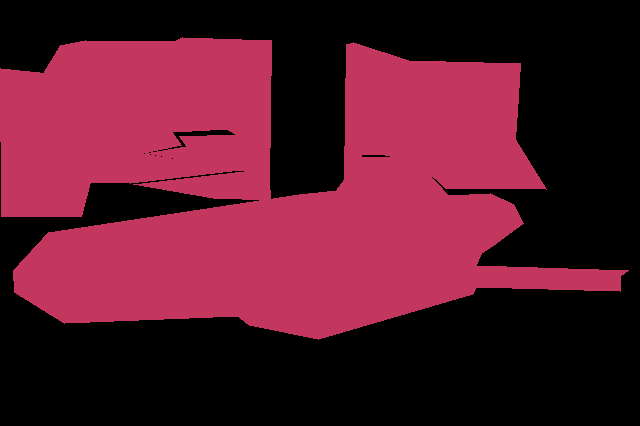Airplane: (13, 157, 629, 339), (43, 37, 546, 200), (0, 68, 239, 216)
